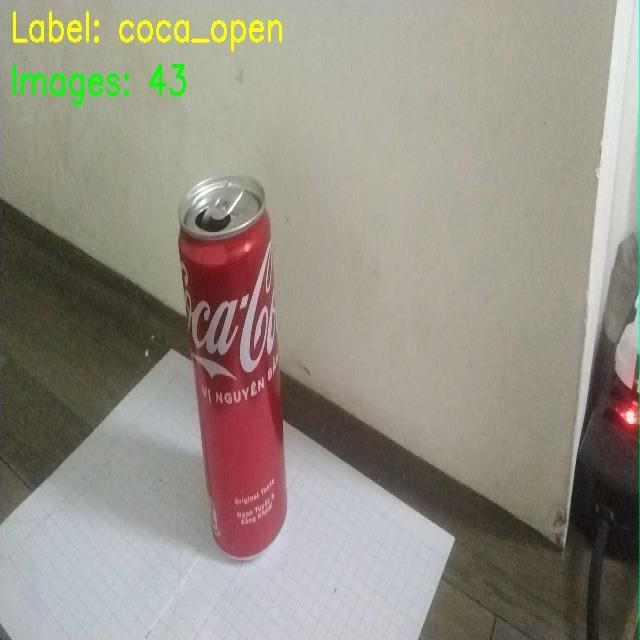Coca_open: (173, 179, 298, 556)
